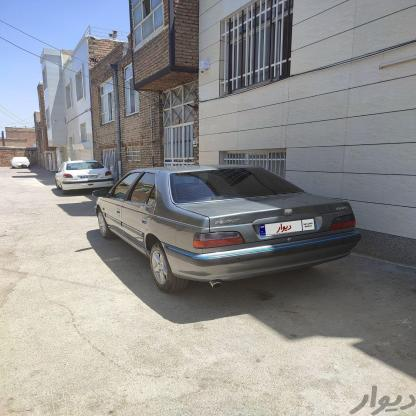Car: (88, 157, 346, 295), (54, 162, 117, 201)
